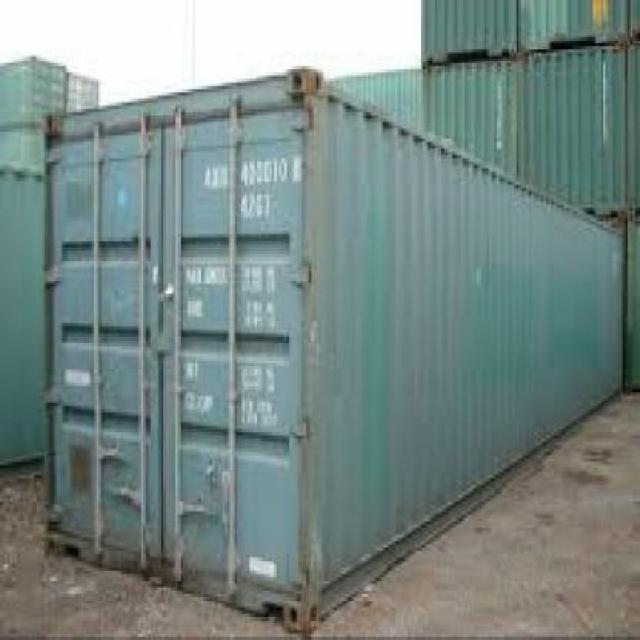ISO: (238, 191, 278, 220)
container_number: (200, 158, 298, 186)
